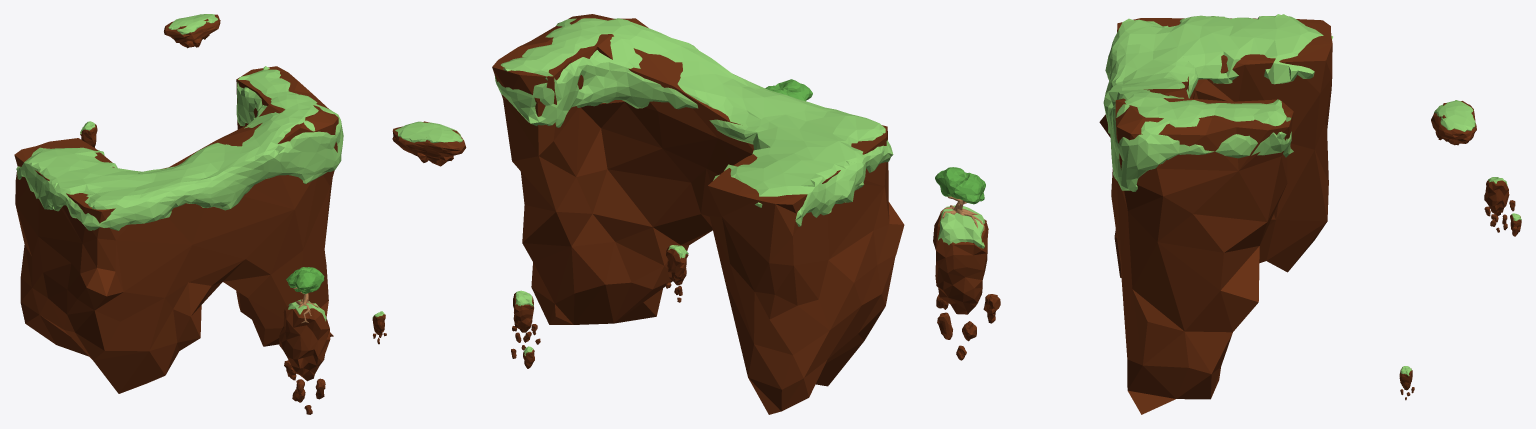
Rendered from Uno_Isola7.fbx.
3 views of the same model, side by side, from view 1: azimuth 30°, elevation 25°; view 2: azimuth 150°, elevation 25°; view 3: azimuth 270°, elevation 25° (orthographic). The views are drawn at different scales.
Visible parts, largest first — view 1: Plane.012, Plane.022, Sphere.098, Mball.002, Sphere.040, Sphere.041; view 2: Plane.012, Plane.022, Sphere.041, Sphere.040, Sphere.091, Mball.002, Sphere.070; view 3: Plane.012, Plane.022, Sphere.098, Sphere.099, Mball.002, Sphere.041, Sphere.070, Sphere.040.
Boxes of the visible parts, x1,y1,x2,y2 form: Plane.012: (14,66,338,393); Plane.022: (16,66,343,230); Sphere.098: (279,306,330,381); Mball.002: (286,267,324,293); Sphere.040: (164,14,220,43); Sphere.041: (168,14,217,34); Plane.012: (492,14,904,414); Plane.022: (494,18,893,226); Sphere.041: (395,121,462,143); Sphere.040: (392,121,466,160); Sphere.091: (666,247,688,285); Mball.002: (765,79,812,101); Sphere.070: (513,293,533,332); Plane.012: (1099,18,1332,414); Plane.022: (1103,14,1332,191); Sphere.098: (933,212,988,314); Sphere.099: (938,205,984,248); Mball.002: (935,167,985,204); Sphere.041: (1434,100,1475,131); Sphere.070: (1484,180,1509,215); Sphere.040: (1431,101,1476,145).
Size of the model in its own units: 618 by 467 by 812.
